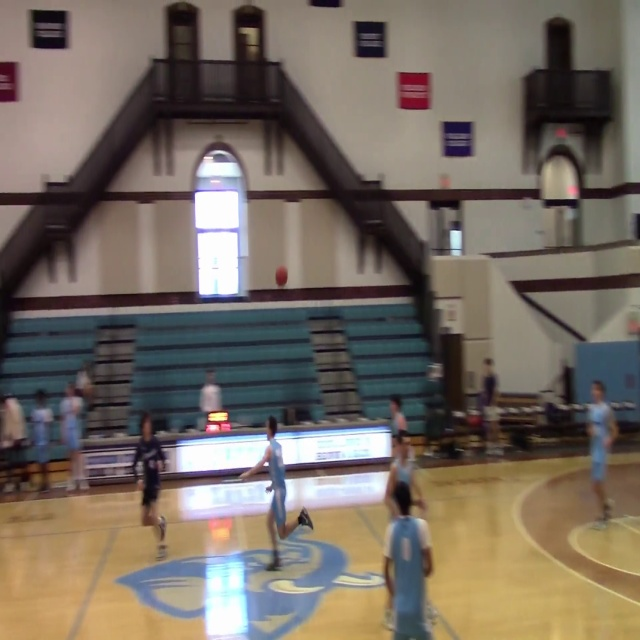Basketball: (275, 266, 288, 286)
